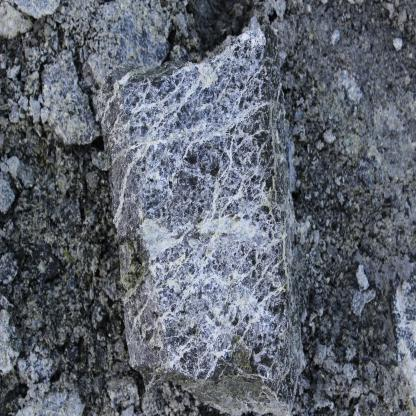stone: (99, 22, 298, 412)
